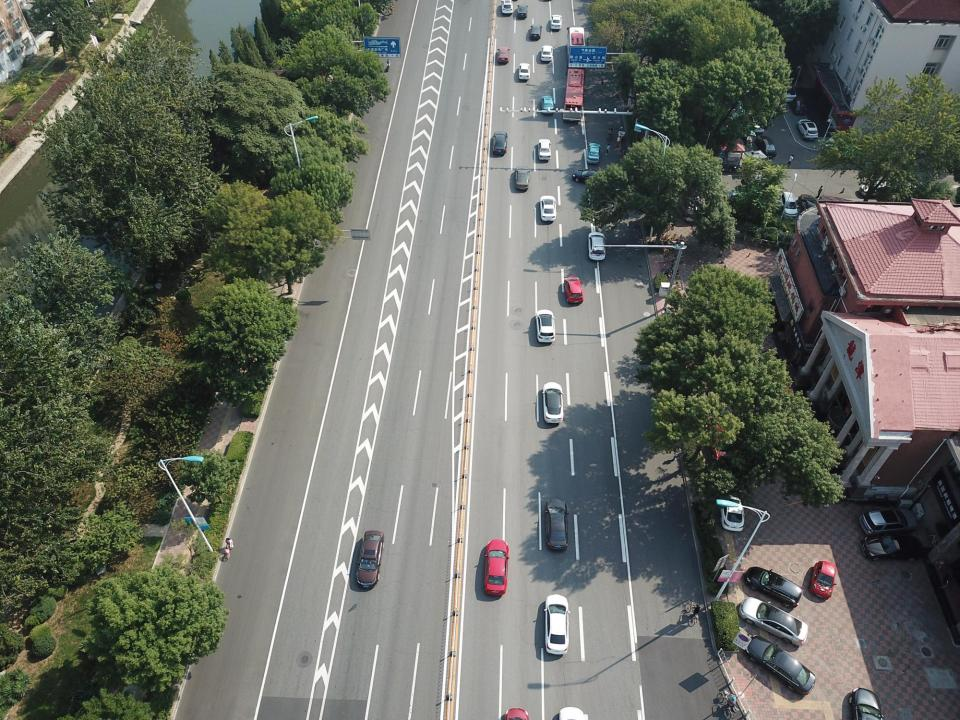bus: (562, 26, 585, 122)
car: (744, 635, 816, 695), (738, 597, 809, 646), (744, 566, 803, 608), (860, 533, 924, 562), (858, 507, 918, 537), (543, 594, 571, 655), (356, 530, 384, 588), (484, 539, 510, 596), (544, 498, 570, 550), (848, 687, 884, 720), (809, 560, 836, 600), (720, 487, 744, 531), (707, 426, 733, 463), (542, 382, 563, 423), (572, 169, 611, 188), (798, 194, 821, 225), (535, 310, 556, 343), (679, 192, 701, 222), (858, 181, 896, 197), (564, 276, 584, 304), (779, 192, 798, 220), (796, 119, 819, 141), (588, 232, 606, 260), (539, 195, 557, 222), (756, 136, 777, 158), (778, 78, 797, 102), (514, 166, 531, 190), (492, 131, 508, 155), (750, 106, 764, 132), (789, 96, 807, 115), (537, 140, 552, 160), (588, 143, 602, 164), (540, 96, 555, 114), (497, 46, 510, 63), (518, 63, 531, 80), (541, 46, 554, 62), (530, 23, 542, 40), (551, 14, 563, 30), (500, 0, 513, 14), (517, 4, 528, 18)
